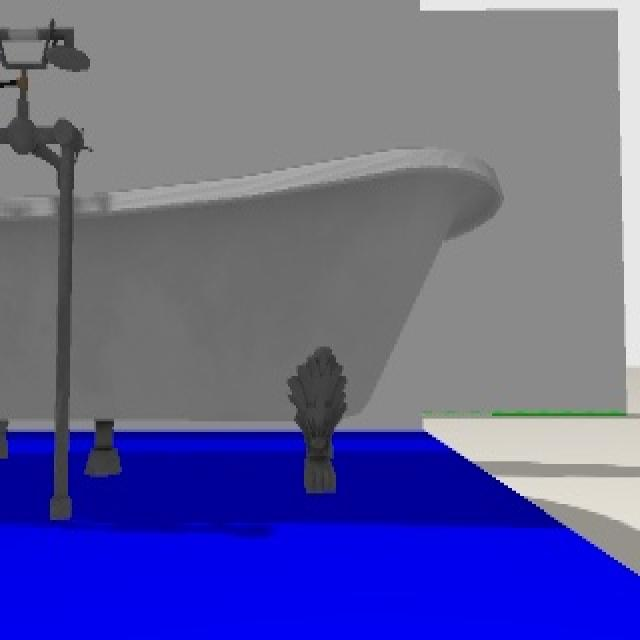bathtub: (1, 22, 514, 539)
